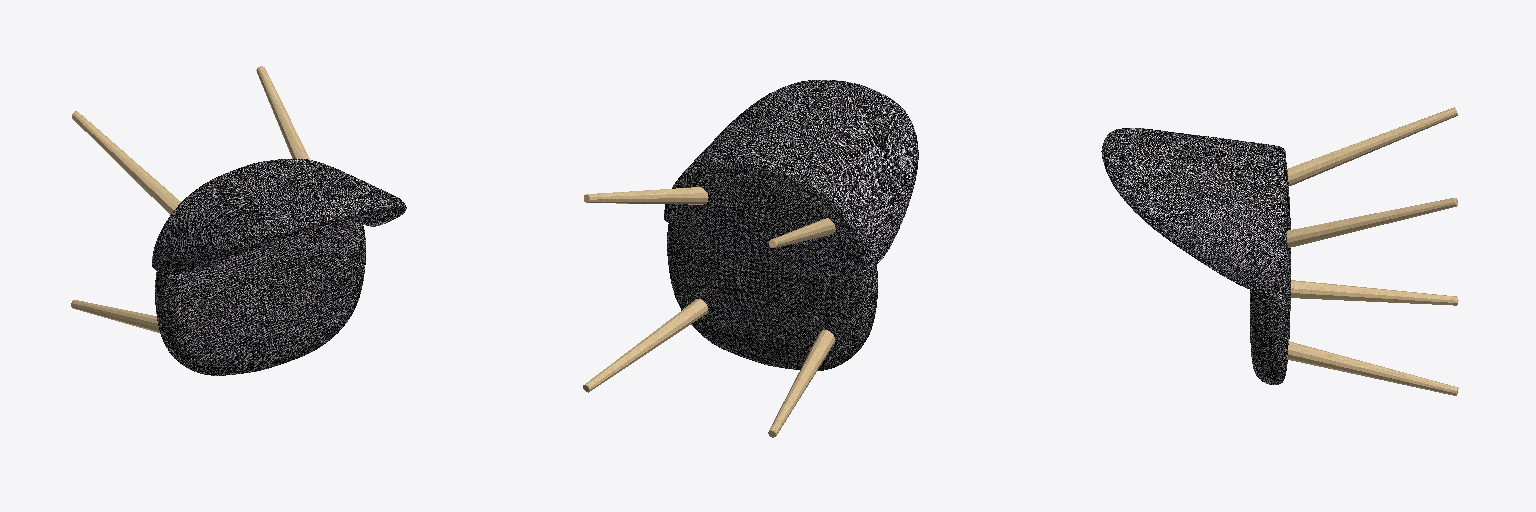
3 renders of one model, left to right at view 1: azimuth 30°, elevation 25°; view 2: azimuth 150°, elevation 25°; view 3: azimuth 270°, elevation 25°, orthographic.
Parts seen in each view (by area): view 1: Mesh1 a Chaise1 Model, Mesh2 a Chaise1 Model, Mesh5 b Chaise1 Model, Mesh3 b Chaise1 Model, Mesh6 b Chaise1 Model; view 2: Mesh1 a Chaise1 Model, Mesh2 a Chaise1 Model, Mesh4 b Chaise1 Model, Mesh3 b Chaise1 Model, Mesh6 b Chaise1 Model, Mesh5 b Chaise1 Model; view 3: Mesh2 a Chaise1 Model, Mesh1 a Chaise1 Model, Mesh5 b Chaise1 Model, Mesh4 b Chaise1 Model, Mesh3 b Chaise1 Model, Mesh6 b Chaise1 Model.
Boxes of the visible parts, box(x1,y1,x2,y2) form: Mesh1 a Chaise1 Model: box(155, 217, 365, 375); Mesh2 a Chaise1 Model: box(152, 159, 406, 275); Mesh5 b Chaise1 Model: box(72, 111, 180, 214); Mesh3 b Chaise1 Model: box(256, 66, 309, 159); Mesh6 b Chaise1 Model: box(71, 300, 159, 332); Mesh1 a Chaise1 Model: box(667, 173, 877, 370); Mesh2 a Chaise1 Model: box(664, 80, 918, 269); Mesh4 b Chaise1 Model: box(583, 299, 707, 392); Mesh3 b Chaise1 Model: box(584, 187, 708, 204); Mesh6 b Chaise1 Model: box(768, 330, 834, 437); Mesh5 b Chaise1 Model: box(768, 218, 834, 247); Mesh2 a Chaise1 Model: box(1101, 128, 1285, 293); Mesh1 a Chaise1 Model: box(1250, 162, 1290, 384); Mesh5 b Chaise1 Model: box(1287, 107, 1457, 185); Mesh4 b Chaise1 Model: box(1288, 341, 1458, 395); Mesh3 b Chaise1 Model: box(1287, 198, 1457, 247); Mesh6 b Chaise1 Model: box(1291, 280, 1458, 305).
Size of the model in its own units: 0.5108 by 0.5151 by 0.7555.
Materials: 2 (2 with a texture image).